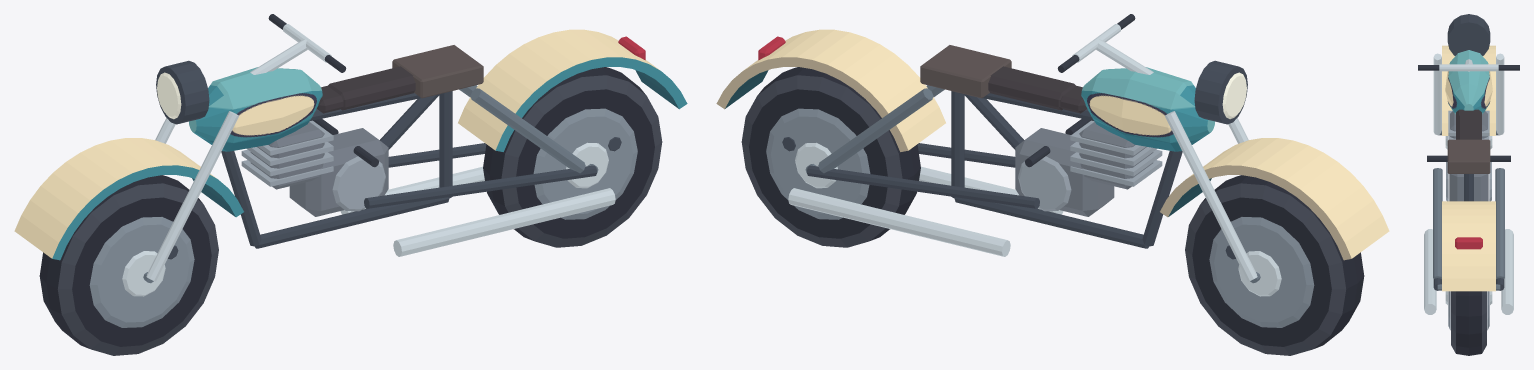
3 renders of one model, left to right at view 1: azimuth 30°, elevation 25°; view 2: azimuth 150°, elevation 25°; view 3: azimuth 270°, elevation 25°, orthographic. The views are drawn at different scales.
Visible parts, largest first — view 1: Body_static, Wheel_F_tire_hub, Wheel_R_tire_hub; view 2: Body_static, Wheel_F_tire_hub, Wheel_R_tire_hub; view 3: Body_static, Wheel_R_tire_hub.
Boxes of the visible parts, bbox=[...] form: Body_static: bbox=[14, 14, 687, 283]; Wheel_F_tire_hub: bbox=[39, 175, 218, 355]; Wheel_R_tire_hub: bbox=[483, 67, 662, 247]; Body_static: bbox=[716, 14, 1389, 283]; Wheel_F_tire_hub: bbox=[1185, 175, 1364, 355]; Wheel_R_tire_hub: bbox=[741, 67, 920, 247]; Body_static: bbox=[1418, 14, 1519, 314]; Wheel_R_tire_hub: bbox=[1445, 291, 1492, 355].
Size of the model in its own units: 55.84 by 22.78 by 10.78.
1 material, 1 textured.
